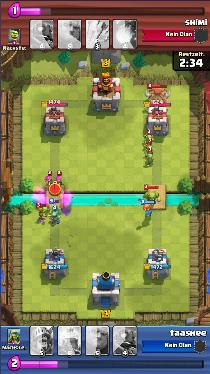ally_goblin_cage: (143, 190, 161, 203)
ally_spear_goblin: (49, 212, 60, 224), (50, 204, 62, 214)
ally_valkyrie: (140, 202, 155, 218)
enemy_archer: (44, 176, 54, 186), (56, 175, 63, 188)
enemy_goblin: (38, 206, 47, 221)
enemy_goblin_hut: (144, 89, 171, 106)
enemy_spear_goblin: (143, 154, 156, 166), (142, 133, 155, 144), (143, 144, 155, 154)
